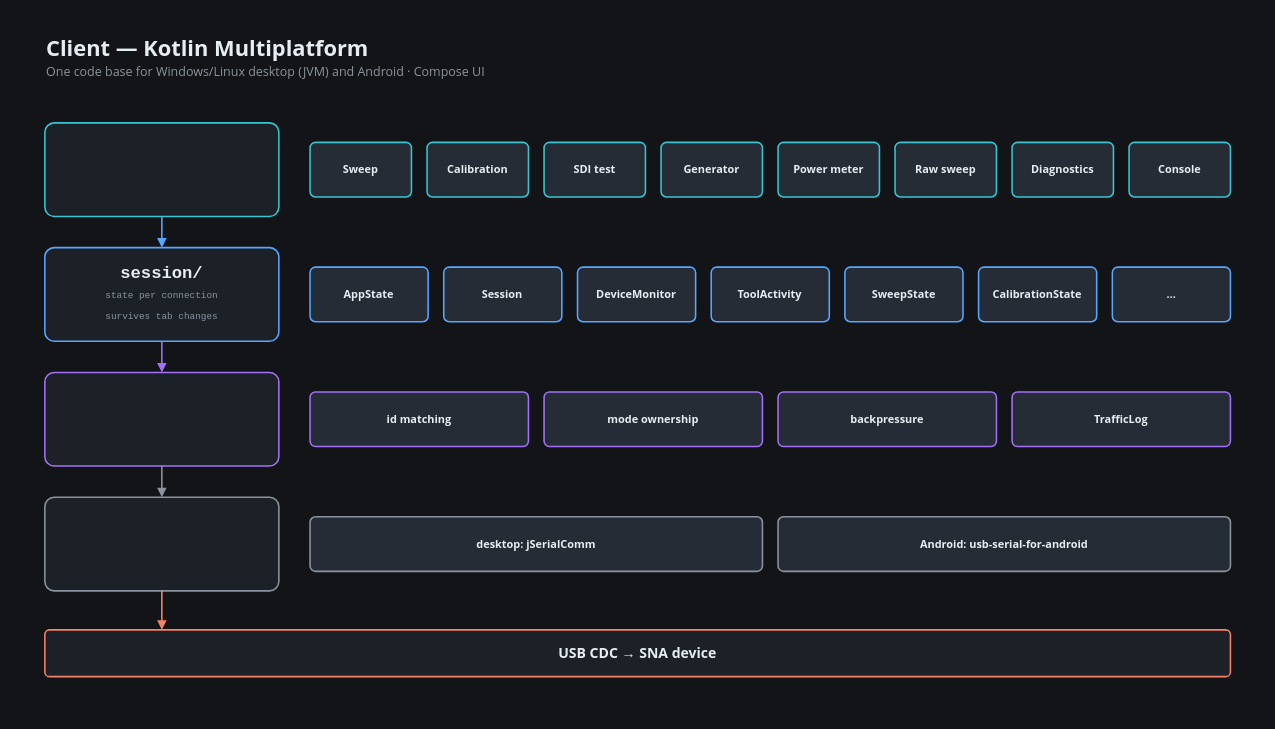
This 1275x729 diagram has some shape labels left out. The centre of each missing label's shape, as x and y in pixels:
client/ SnaClient · coroutines: the point at 161,418
transport SerialTransport: the point at 161,543
ui/ one screen per tab: the point at 161,169
